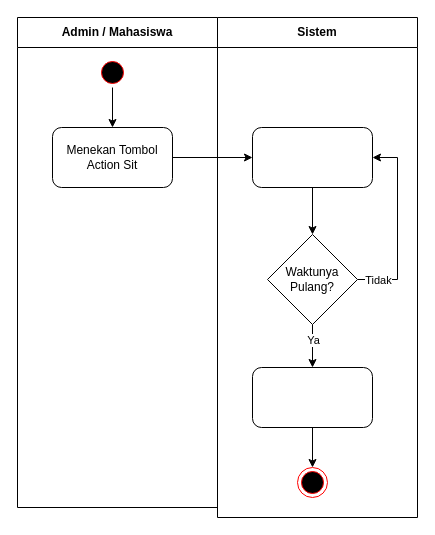
This 435x535 diagram has some shape labels left out. The shapes that lost their labels are listed below. From the top down, each one's box as (x1, y1, x2, y2) in pixels, then its label:
(252, 126, 372, 188): Menampilkan Pelajaran
(252, 366, 372, 428): Kembali ke Scene Gameplay
